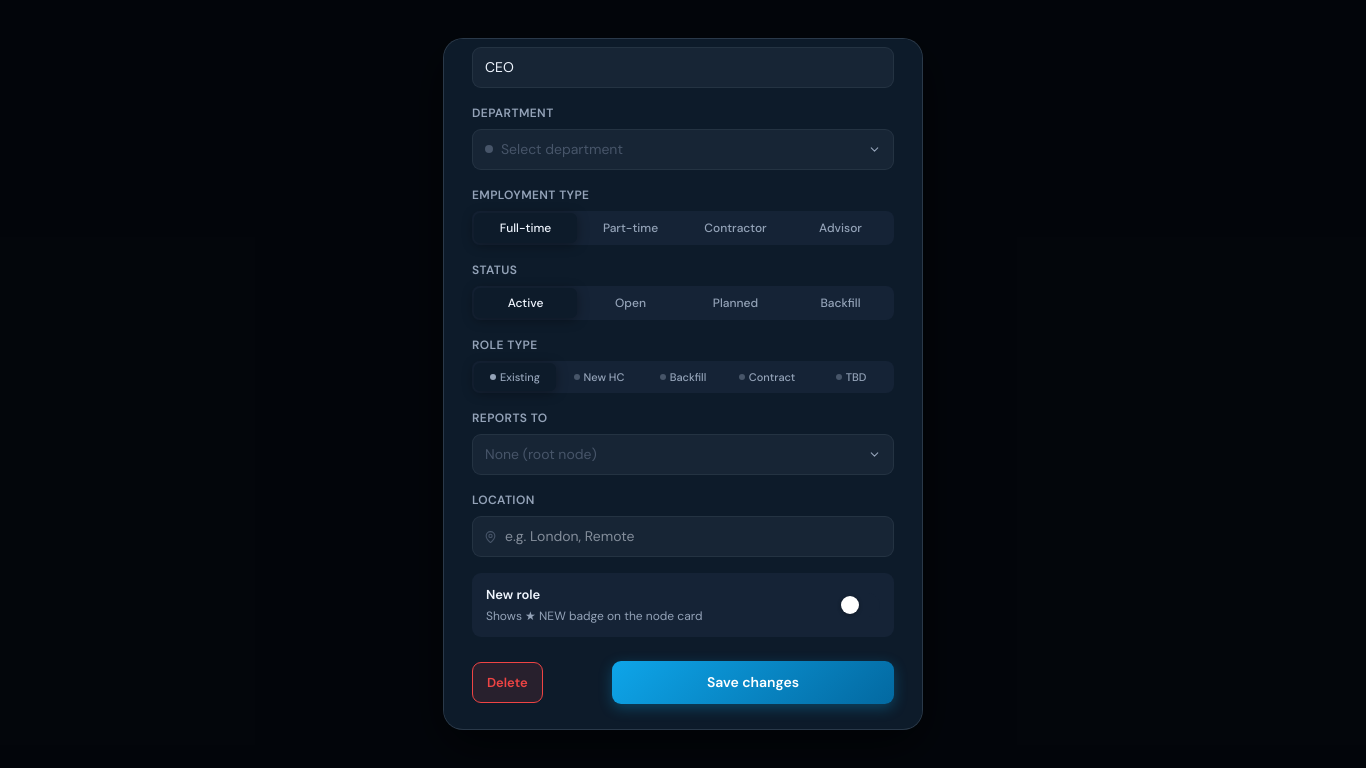
Test: edit mode › shows a confirmation prompt after clicking Delete
(page scrolled)
Click the button "Delete" at (507,682), box [472,662,543,703]
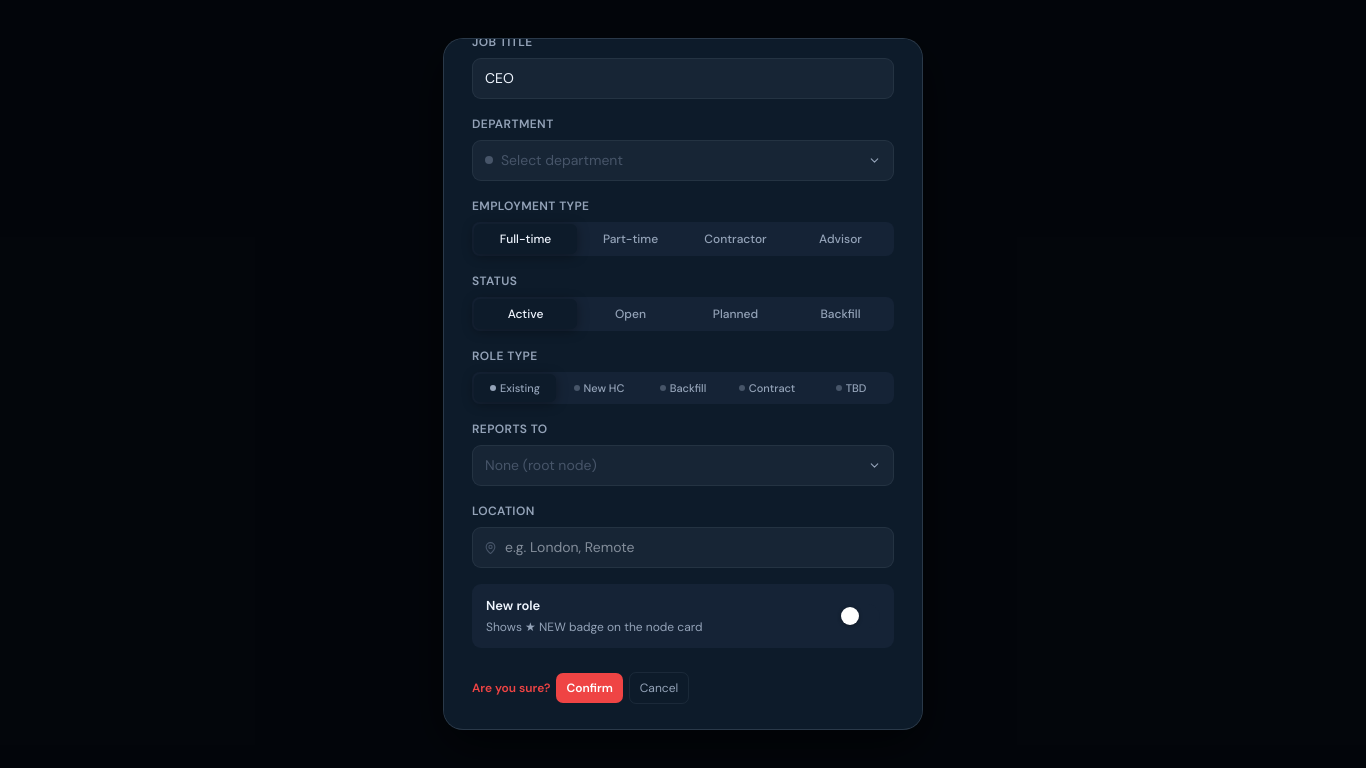
Now the text "Are you sure?" is shown, box [472,679,550,697]
Now the button "Confirm" is shown, box [556,673,623,703]
Now the button "Cancel" is shown, box [629,672,689,704]
